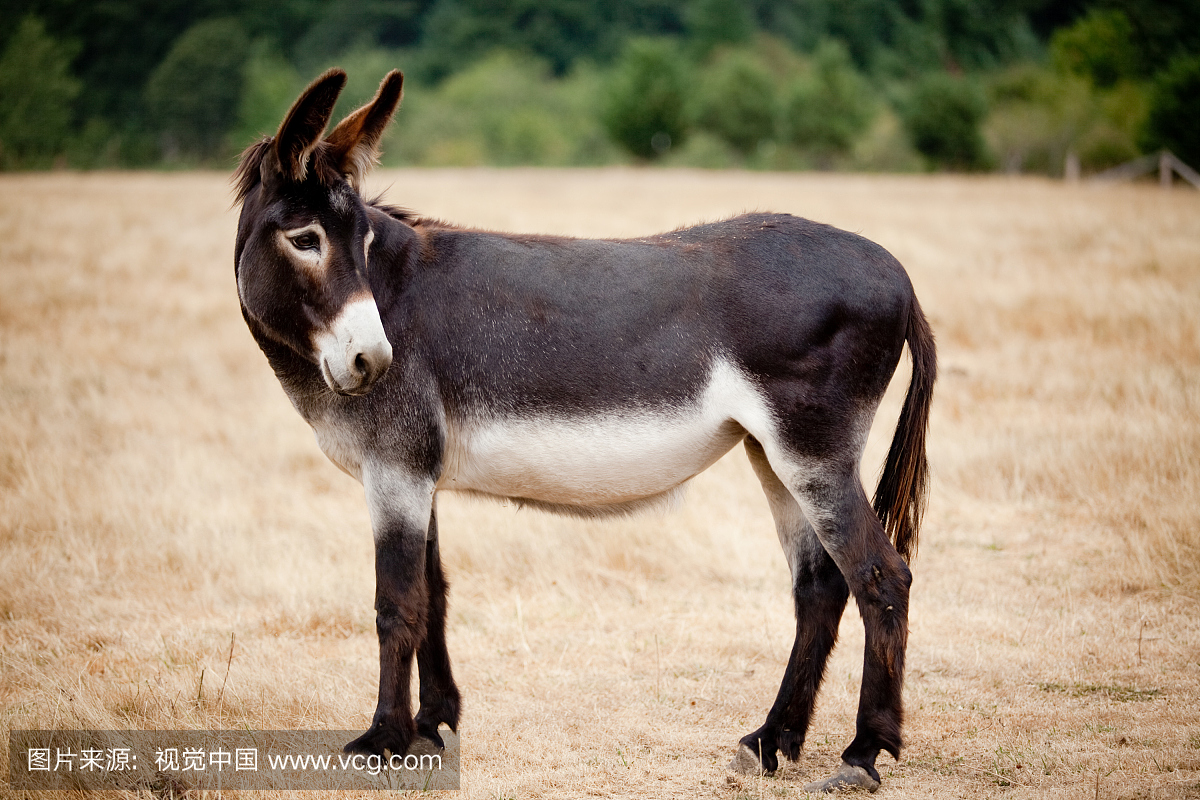background: (228, 65, 951, 777)
